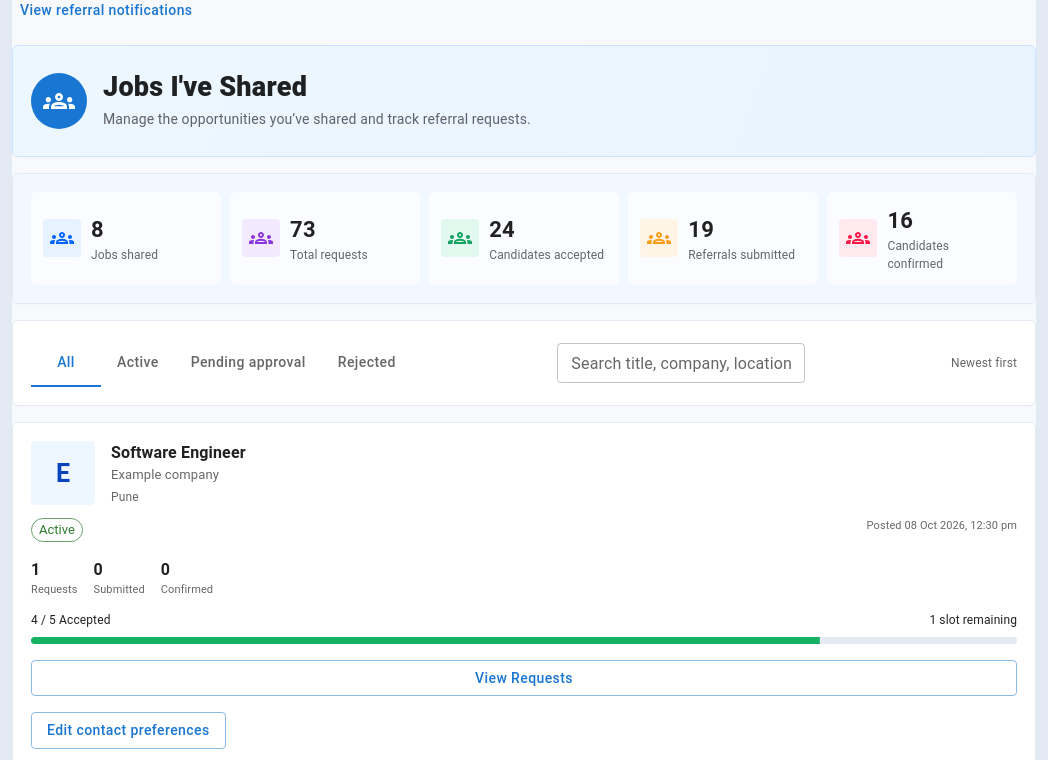
Scenario: referrer screens › renders real metrics and navigates View requests to selected opportunity
The width and height of the screenshot is (1048, 760).
expect the text "73" is shown: met, box 290,216 -> 316,242
expect the text "4 / 5 Accepted" is shown: met, box 31,610 -> 110,628
Click the button "View Requests". click: (524, 678)
box: 31,660 -> 1017,696
(page scrolled)
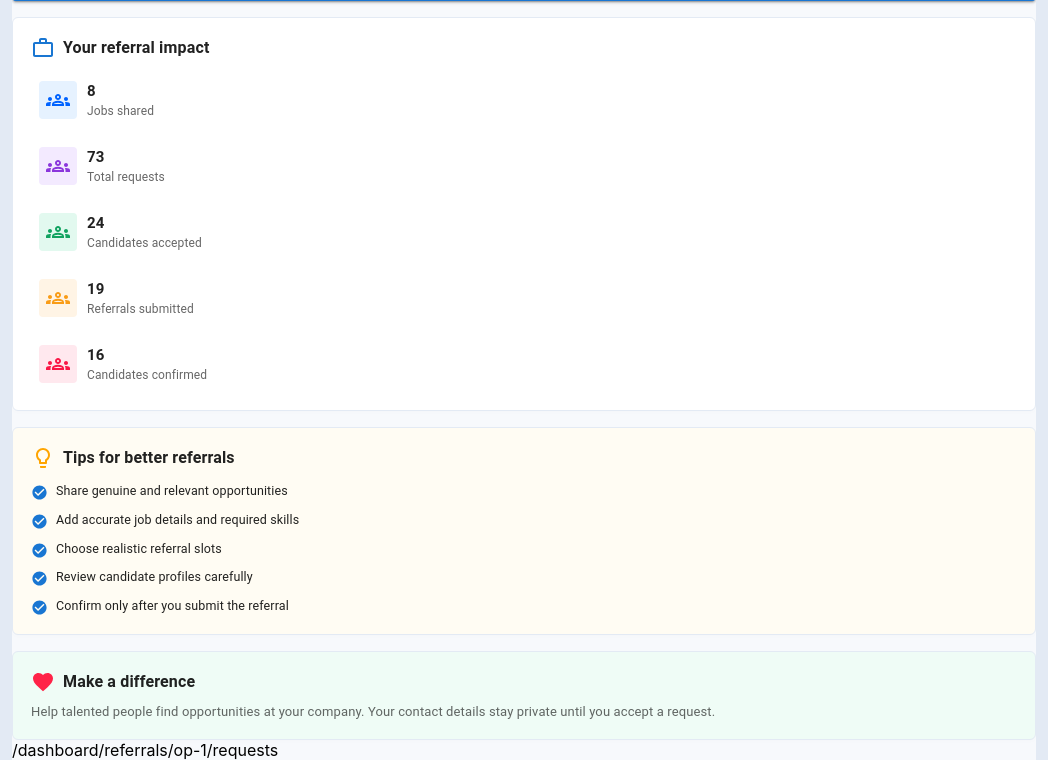
expect the text named "Route location" reads "/dashboard/referrals/op-1/requests": met, box 12,740 -> 278,759
